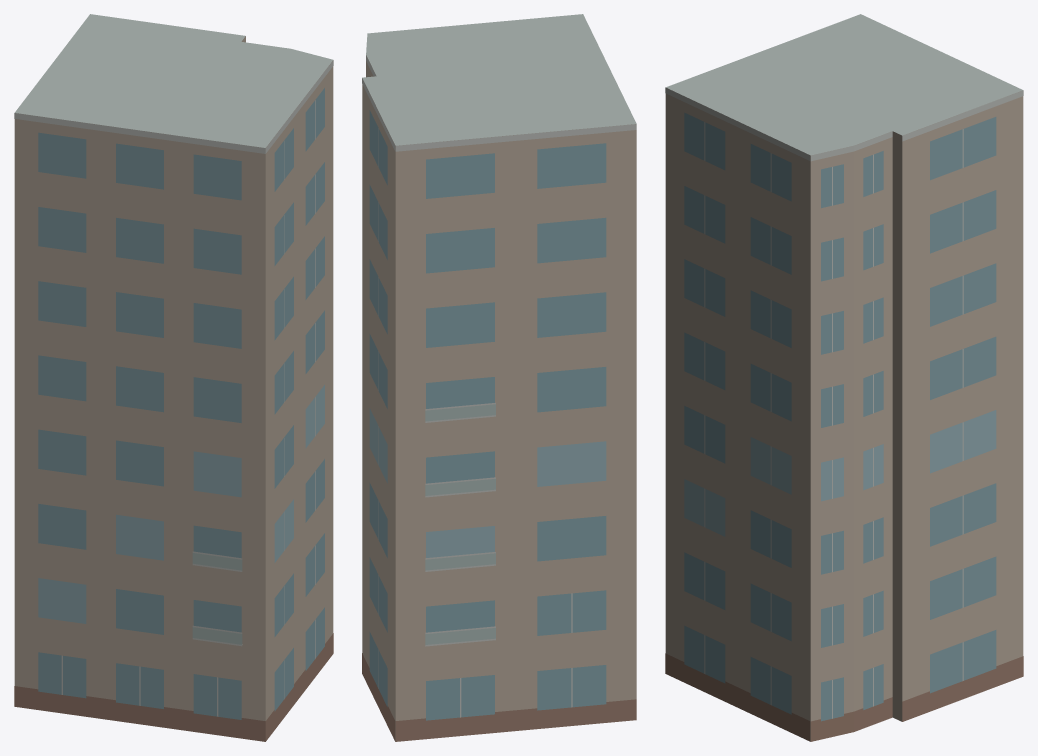
Rendered from survey-upis-32927609.glb.
The picture shows the model from 3 angles, left to right: view 1: azimuth 30°, elevation 25°; view 2: azimuth 150°, elevation 25°; view 3: azimuth 270°, elevation 25°; orthographic projection.
Parts seen in each view (by area): view 1: survey-upis-32927609.tmp; view 2: survey-upis-32927609.tmp; view 3: survey-upis-32927609.tmp.
Part boxes in pixels (bbox=[...]): survey-upis-32927609.tmp: bbox=[14, 14, 333, 741]; survey-upis-32927609.tmp: bbox=[362, 14, 636, 741]; survey-upis-32927609.tmp: bbox=[665, 14, 1023, 741].
Size of the model in its own units: 12.56 by 24.25 by 13.42.
